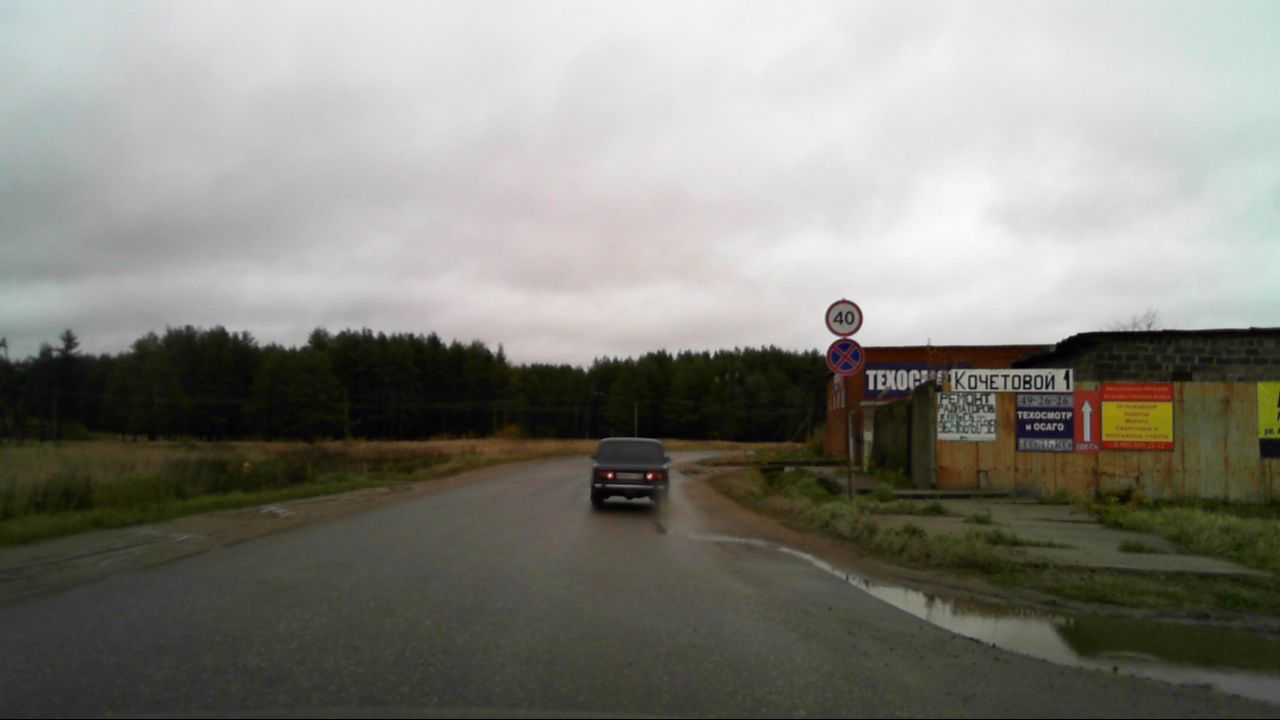No Parking: (826, 337, 864, 376)
speed_warning_40: (825, 299, 862, 336)
